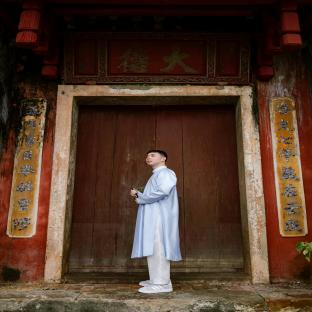Human: (131, 150, 181, 293)
